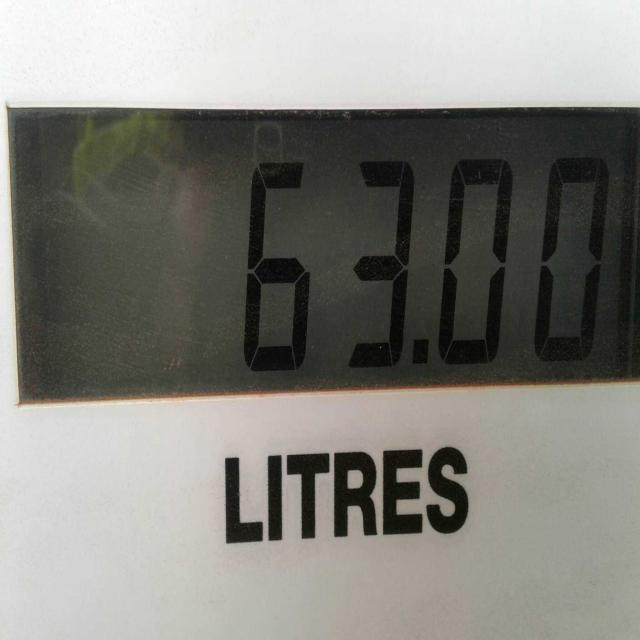.: (408, 333, 440, 393)
0: (526, 152, 630, 372), (428, 143, 514, 380)
3: (327, 144, 415, 375)
6: (235, 141, 340, 382)
